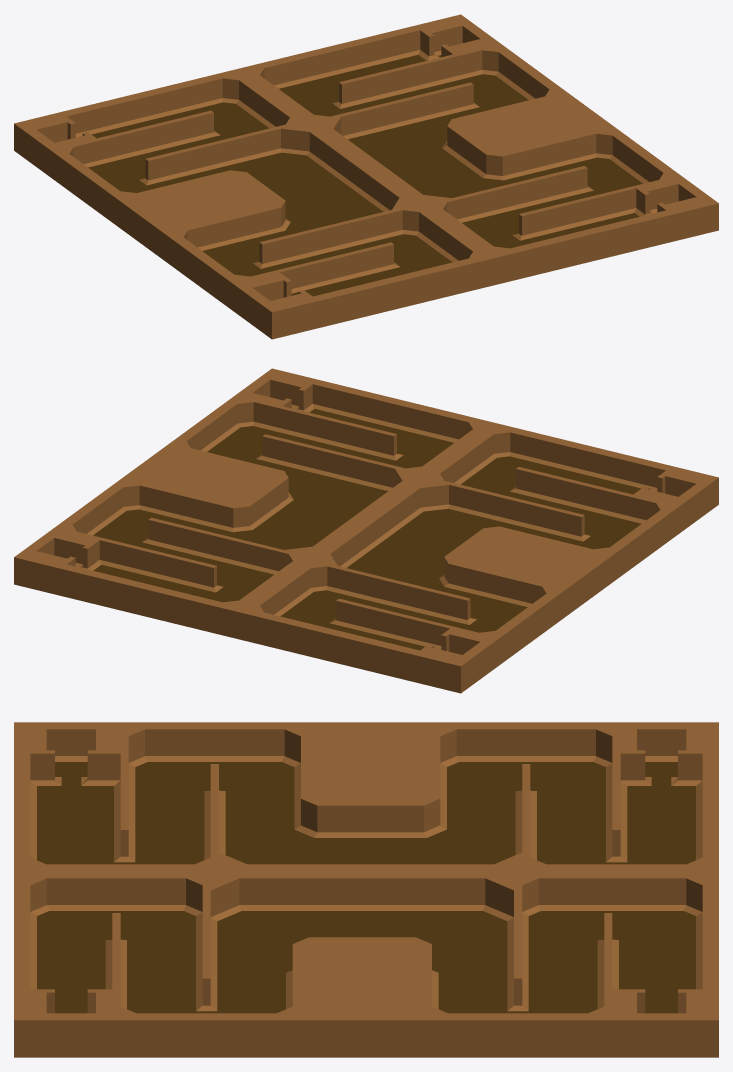
File: TutorialZone.fbx
3 renders of one model, top to bottom at view 1: azimuth 30°, elevation 25°; view 2: azimuth 150°, elevation 25°; view 3: azimuth 270°, elevation 25°, orthographic. The views are drawn at different scales.
Visible parts, largest first — view 1: Model; view 2: Model; view 3: Model.
Part boxes in pixels (bbox=[...]): Model: bbox=[14, 14, 718, 339]; Model: bbox=[14, 368, 718, 693]; Model: bbox=[14, 722, 718, 1057].
Bounding box in the file's own units: 215 × 12.5 × 215.
